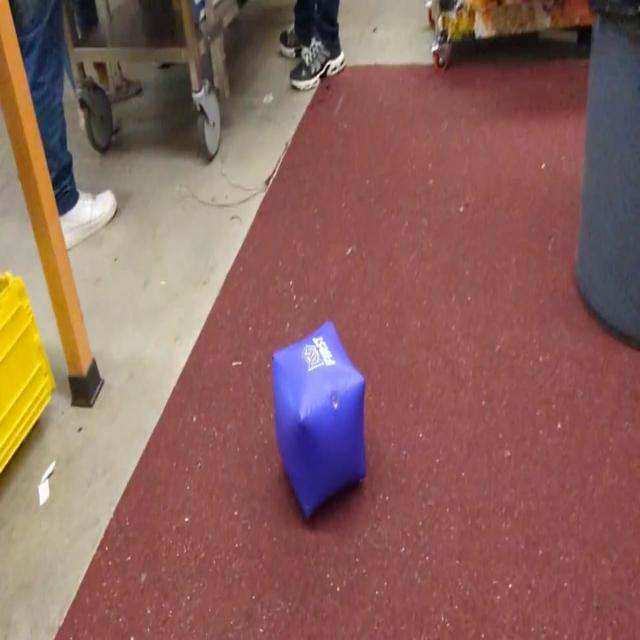frc_cube: (269, 321, 367, 523)
